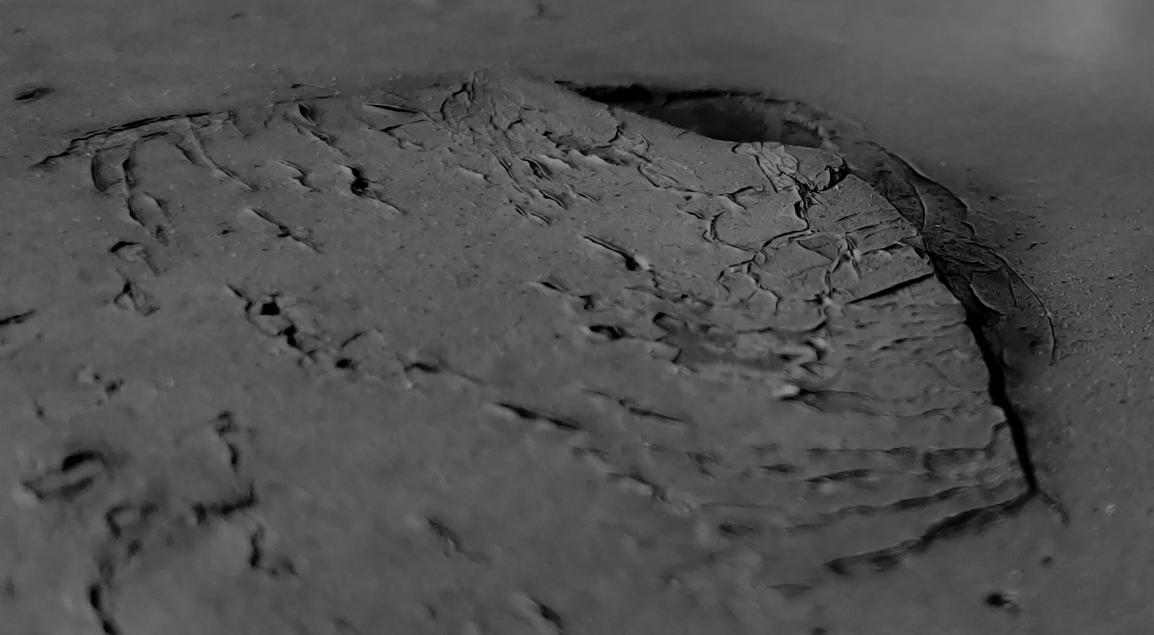crack: (0, 1, 1154, 635)
